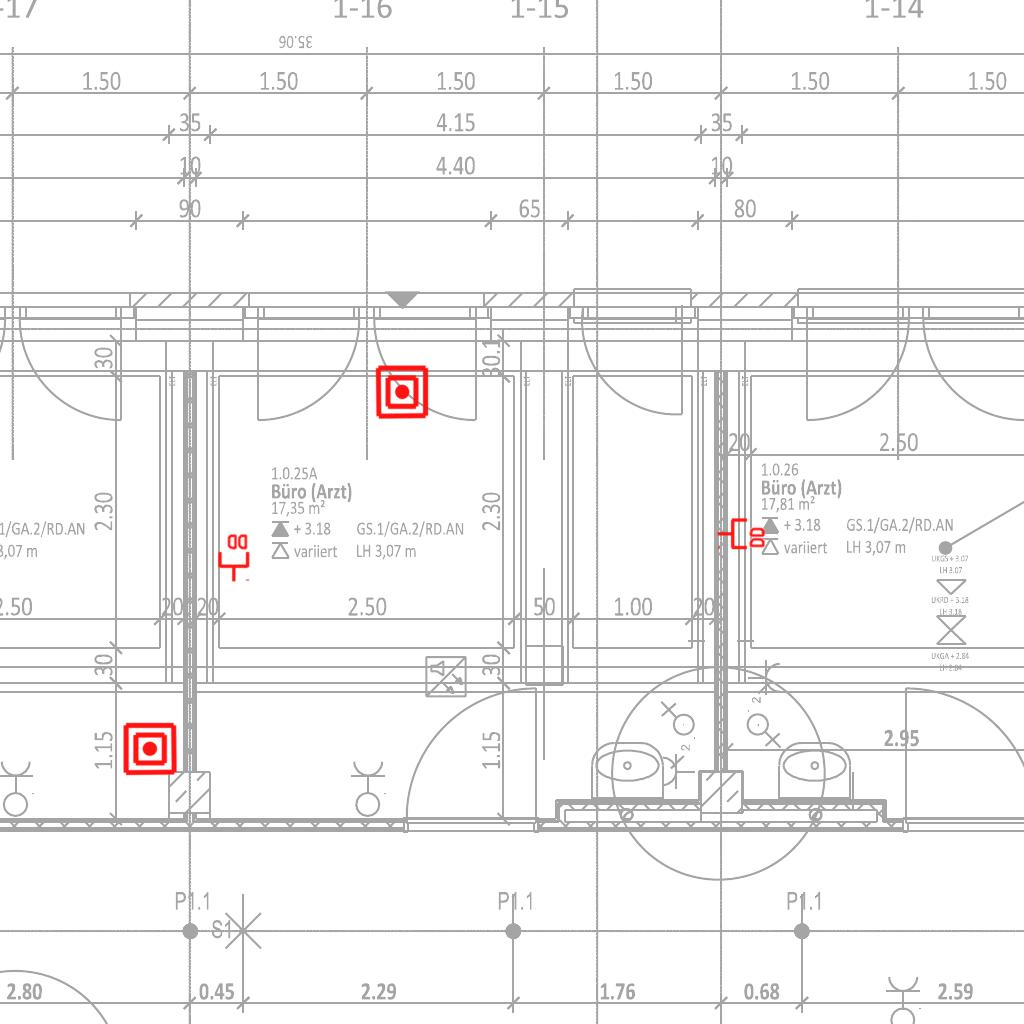Datenanschluss_zweifach: (216, 532, 250, 583), (716, 516, 767, 550)
NAM-Nichtautomatischer_Melder: (122, 721, 178, 777), (374, 364, 430, 420)
